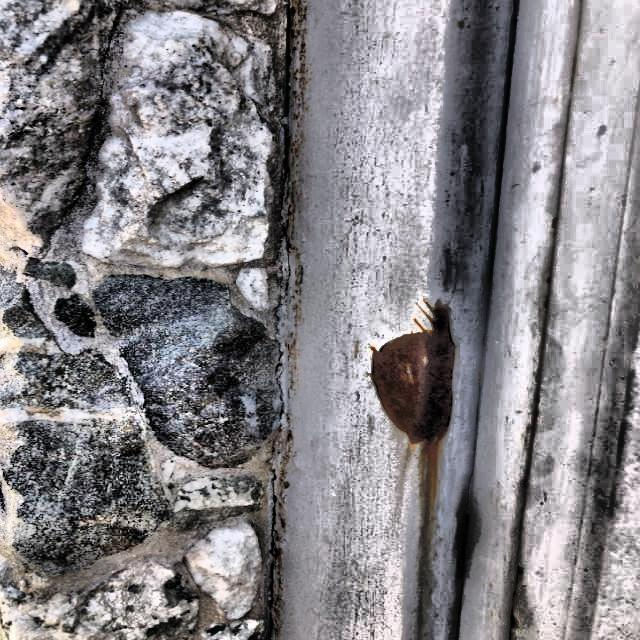Crevice Corrosion: (370, 300, 454, 509)
Pitting Corrosion: (370, 300, 454, 511)
